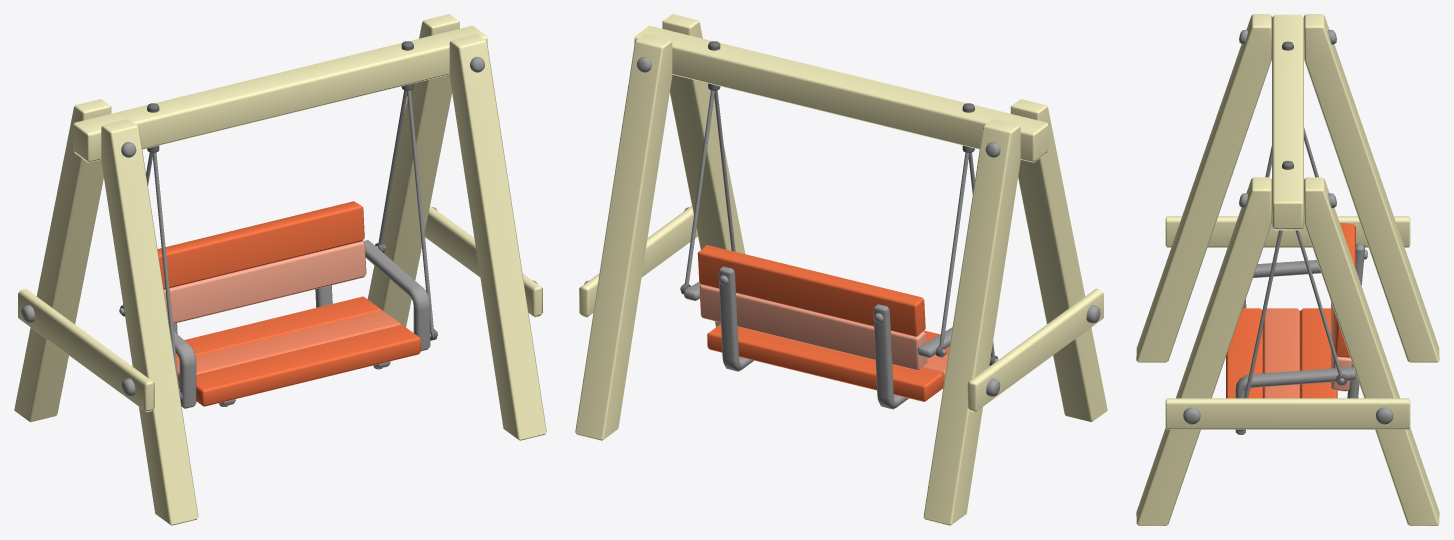
File: Town_8_Garden_Swing_1.glb
3 renders of one model, left to right at view 1: azimuth 30°, elevation 25°; view 2: azimuth 150°, elevation 25°; view 3: azimuth 270°, elevation 25°, orthographic. The views are drawn at different scales.
Visible parts, largest first — view 1: Town_8_Garden_Swing_1; view 2: Town_8_Garden_Swing_1; view 3: Town_8_Garden_Swing_1.
Boxes of the visible parts, x1,y1,x2,y2 form: Town_8_Garden_Swing_1: (14,14,546,525); Town_8_Garden_Swing_1: (575,14,1107,525); Town_8_Garden_Swing_1: (1136,14,1439,525).
Size of the model in its own units: 3.01 by 2.45 by 1.99.
Materials: 1 (1 with a texture image).
